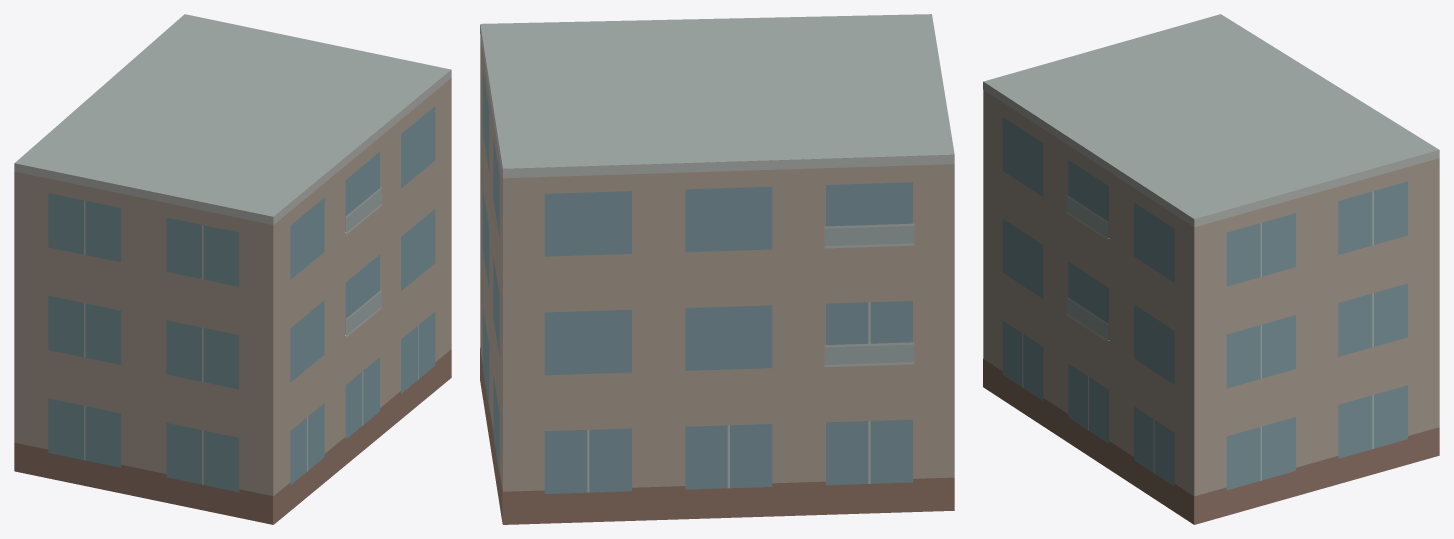
File: survey-upis-33024937.glb
The picture shows the model from 3 angles, left to right: view 1: azimuth 30°, elevation 25°; view 2: azimuth 150°, elevation 25°; view 3: azimuth 270°, elevation 25°; orthographic projection. The views are drawn at different scales.
Parts seen in each view (by area): view 1: survey-upis-33024937.tmp; view 2: survey-upis-33024937.tmp; view 3: survey-upis-33024937.tmp.
Part boxes in pixels (x1=…): survey-upis-33024937.tmp: x1=14, y1=14, x2=451, y2=524; survey-upis-33024937.tmp: x1=480, y1=14, x2=954, y2=524; survey-upis-33024937.tmp: x1=983, y1=14, x2=1439, y2=524.
Size of the model in its own units: 13.18 by 9.15 by 12.39.
